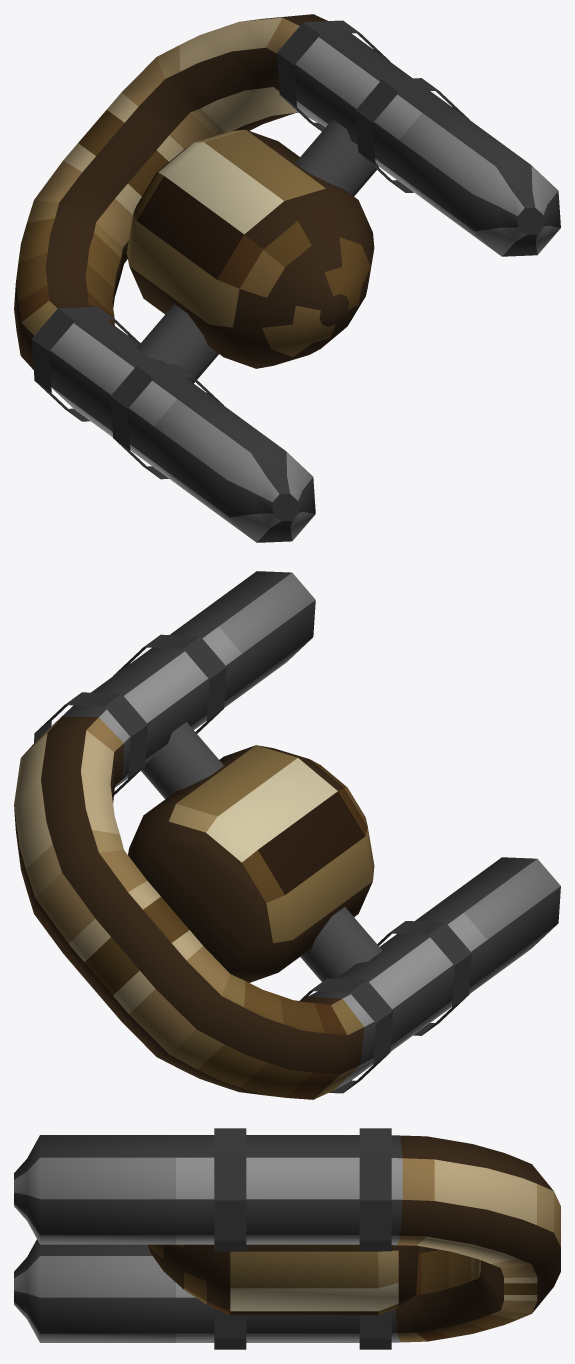
File: newsh2-191-f8.glb
3 renders of one model, top to bottom at view 1: azimuth 30°, elevation 25°; view 2: azimuth 150°, elevation 25°; view 3: azimuth 270°, elevation 25°, orthographic. The views are drawn at different scales.
Parts seen in each view (by area): view 1: newsh2-191-f8; view 2: newsh2-191-f8; view 3: newsh2-191-f8.
Part boxes in pixels (<box>): newsh2-191-f8: <box>14,14,560,542</box>; newsh2-191-f8: <box>14,571,560,1099</box>; newsh2-191-f8: <box>14,1128,560,1349</box>.
Size of the model in its own units: 1.05 by 0.9845 by 1.57.
